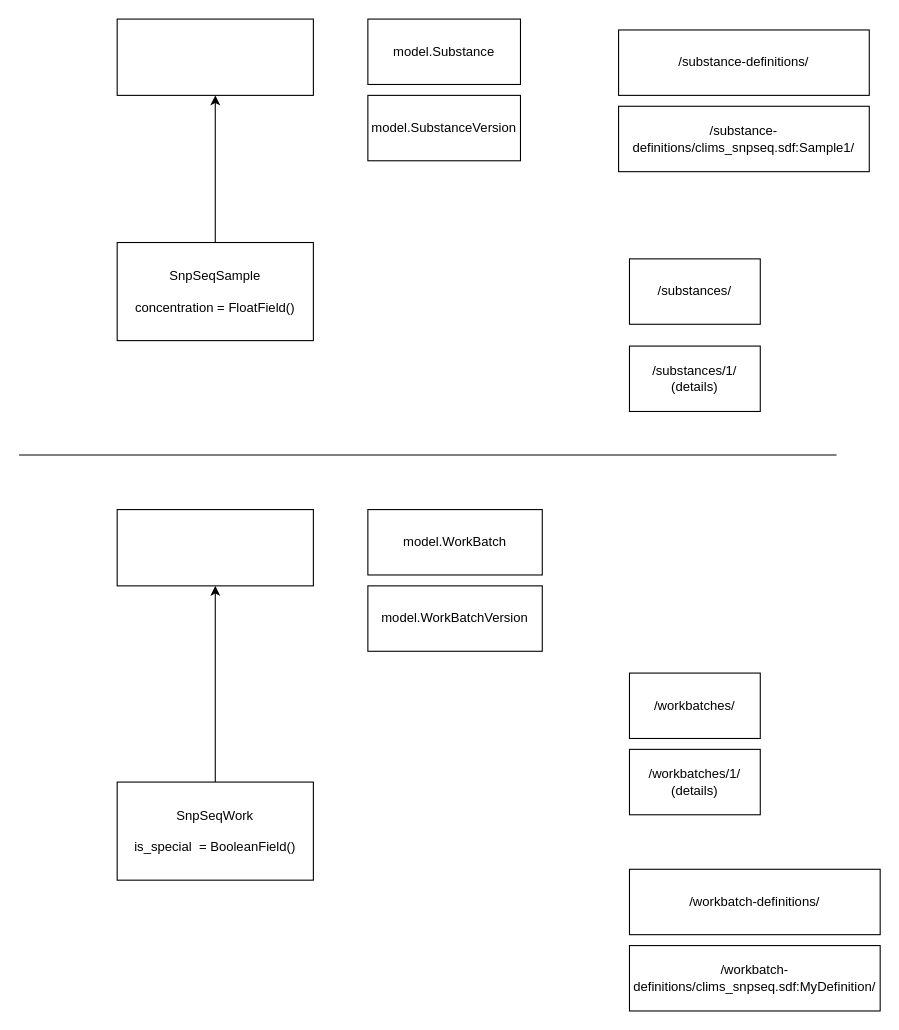
Some shapes in this 899 by 1030 pixel diagram are drawn without their labels. The box of each missing label's shape, as (x1, y1, x2, y2) in pixels:
SubstanceBase: (116, 18, 313, 95)
WorkBatchBase: (116, 508, 313, 586)
